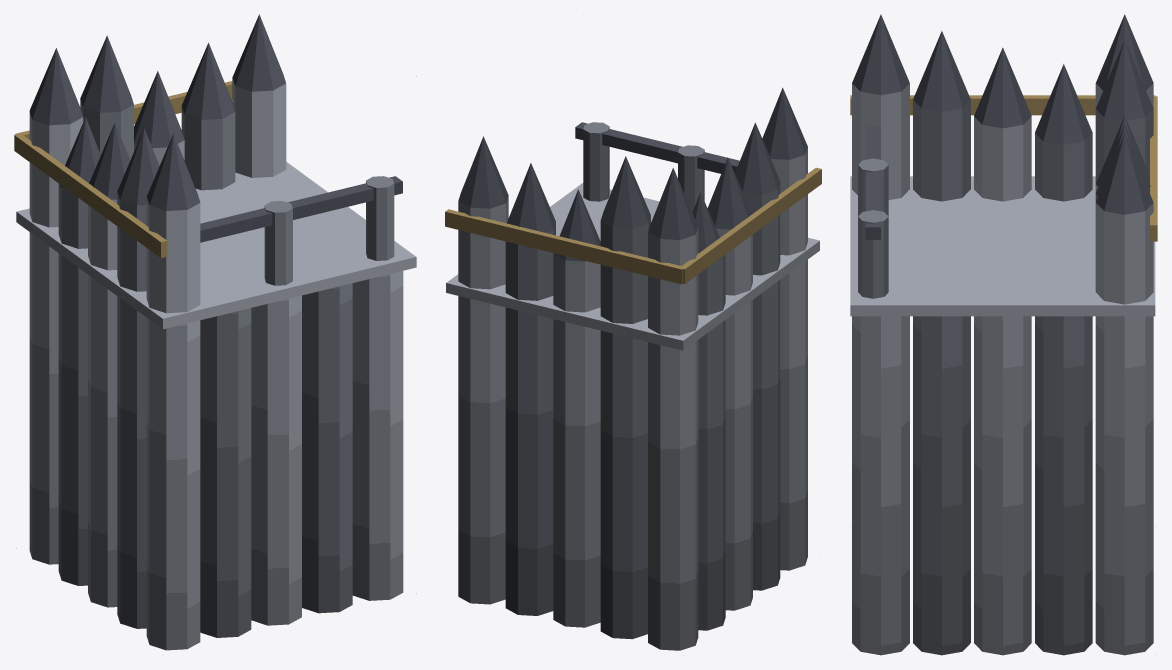
File: perimeter_wall_metal_f2.glb
3 views of the same model, side by side, from view 1: azimuth 30°, elevation 25°; view 2: azimuth 150°, elevation 25°; view 3: azimuth 270°, elevation 25° (orthographic). The views are drawn at different scales.
Size of the model in its own units: 2.01 by 3.9 by 2.01.
Materials: 1 (1 with a texture image).
